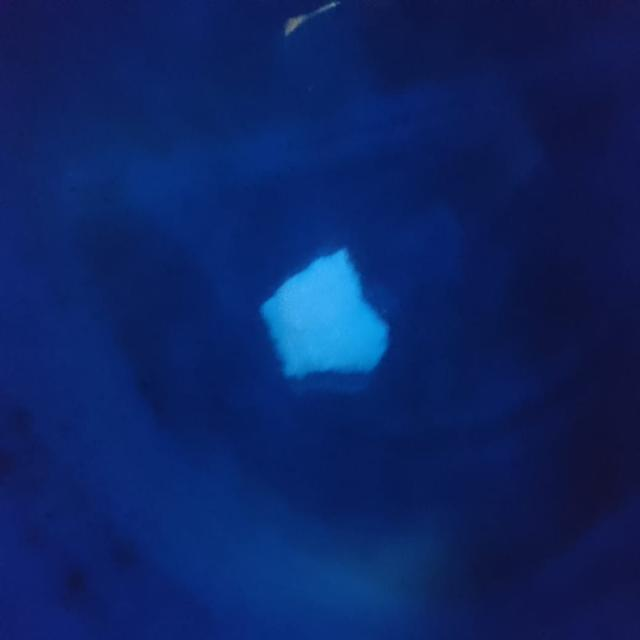litter: (253, 230, 396, 392)
